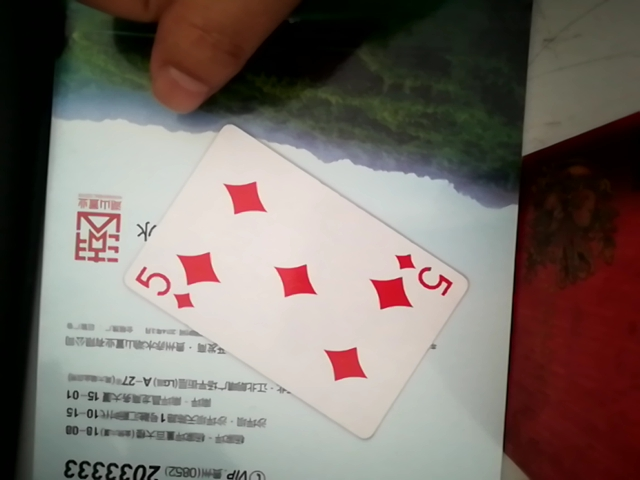fk 5: (87, 119, 503, 436)
